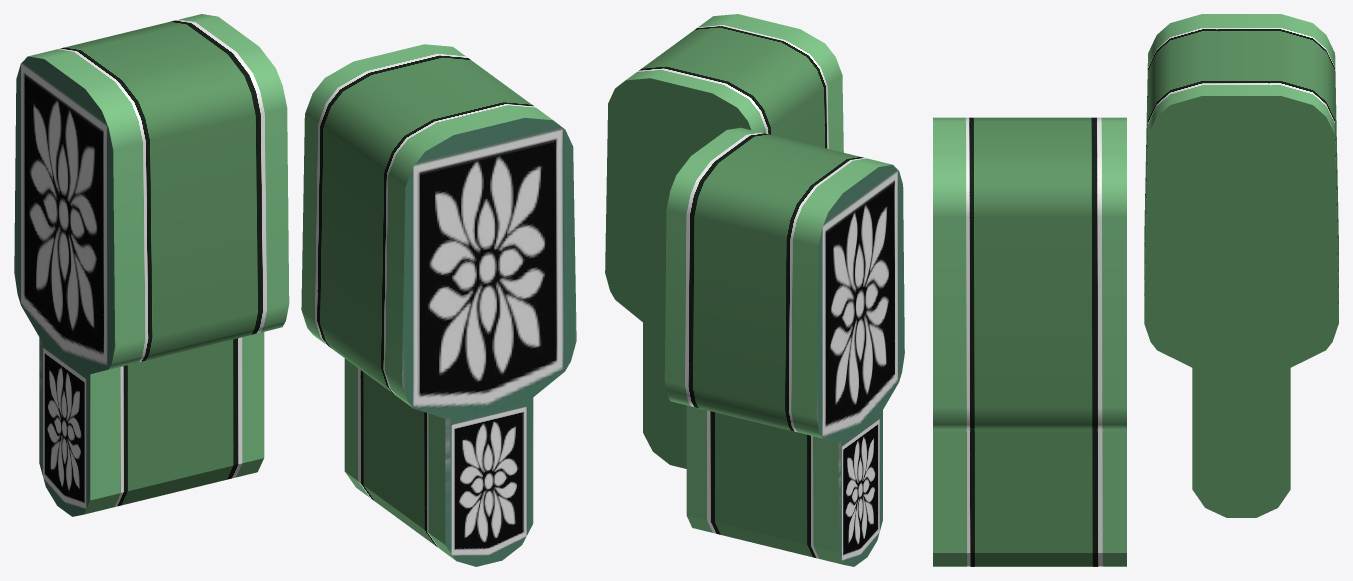
File: SM_R_DancheongCorner_6.fbx
3 views of the same model, side by side, from view 1: azimuth 30°, elevation 25°; view 2: azimuth 150°, elevation 25°; view 3: azimuth 270°, elevation 25° (orthographic). The views are drawn at different scales.
Visible parts, largest first — view 1: SM_R_DancheongCorner_6_LOD0; view 2: SM_R_DancheongCorner_6_LOD0; view 3: SM_R_DancheongCorner_6_LOD0.
Part boxes in pixels (x1,y1,x2,y2): SM_R_DancheongCorner_6_LOD0: (14,14,576,566); SM_R_DancheongCorner_6_LOD0: (605,14,904,566); SM_R_DancheongCorner_6_LOD0: (933,14,1338,566).
Size of the model in its own units: 60.45 by 62.53 by 71.75.
2 materials, 2 textured.
